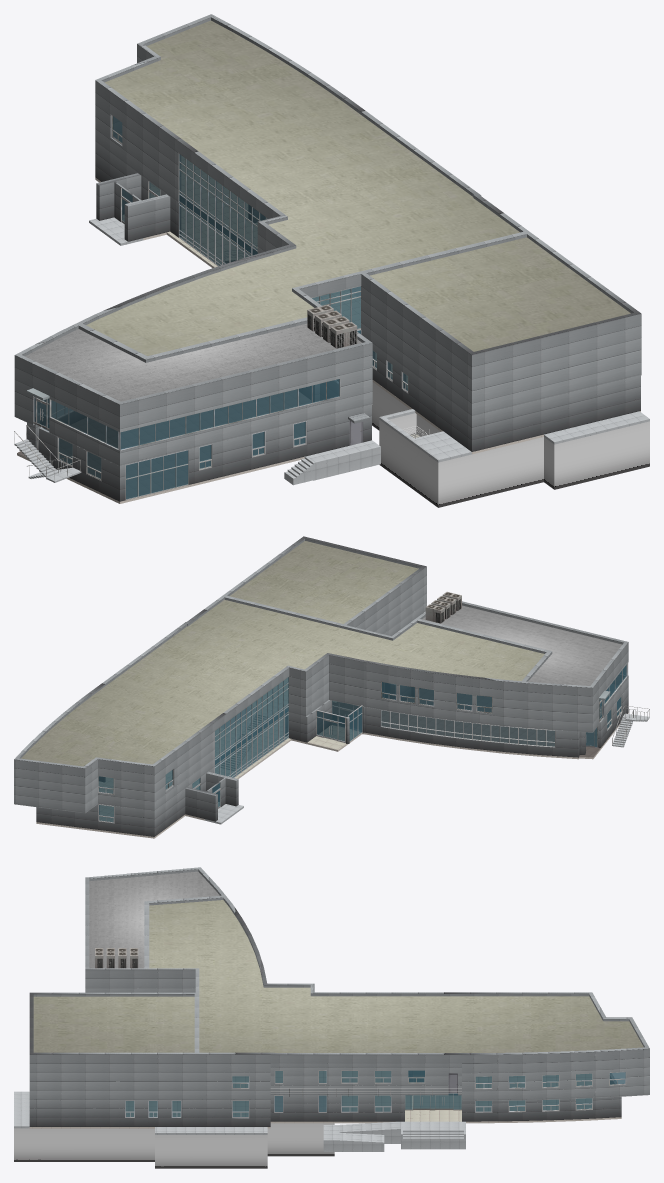
File: 02-GC-OUT-admin.glb
3 views of the same model, one above another, from view 1: azimuth 30°, elevation 25°; view 2: azimuth 150°, elevation 25°; view 3: azimuth 270°, elevation 25° (orthographic). The views are drawn at different scales.
Parts seen in each view (by area): view 1: roof, 2f, Line2336, 1f, Line126, b1, Line2335, Rectangle829, Rectangle925, Admin, Rectangle821; view 2: roof, 2f, Line2336, 1f, Line126, Rectangle829, Line2335, Rectangle925, Admin, Rectangle821; view 3: roof, 2f, Line2336, 1f, Line126, b1, Rectangle829, Line2335, Rectangle925, Admin, Line208.
Part boxes in pixels (x1,y1,x2,y2): roof: [25, 20, 630, 401]; 2f: [14, 56, 641, 466]; Line2336: [14, 14, 641, 416]; 1f: [27, 134, 640, 501]; Line126: [17, 156, 649, 503]; b1: [372, 382, 649, 507]; Line2335: [34, 116, 360, 449]; Rectangle829: [43, 181, 408, 499]; Rectangle925: [49, 115, 360, 450]; Admin: [307, 305, 357, 348]; Rectangle821: [14, 439, 81, 482]; roof: [21, 541, 621, 766]; 2f: [14, 575, 628, 813]; Line2336: [14, 536, 628, 776]; 1f: [36, 684, 628, 836]; Line126: [36, 678, 628, 838]; Rectangle829: [98, 682, 621, 823]; Line2335: [98, 665, 626, 793]; Rectangle925: [98, 663, 628, 794]; Admin: [425, 591, 461, 623]; Rectangle821: [612, 713, 649, 747]; roof: [33, 871, 643, 1052]; 2f: [29, 978, 649, 1100]; Line2336: [29, 867, 649, 1063]; 1f: [29, 1073, 621, 1126]; Line126: [14, 1071, 621, 1151]; b1: [14, 1123, 334, 1168]; Rectangle829: [125, 1071, 592, 1117]; Line2335: [232, 1070, 625, 1088]; Rectangle925: [232, 1070, 626, 1089]; Admin: [95, 948, 138, 968]; Line208: [271, 1088, 461, 1096].
Size of what is drawn, in the model's own units: 50.78 by 13.58 by 65.49.
26 materials, 21 textured.
